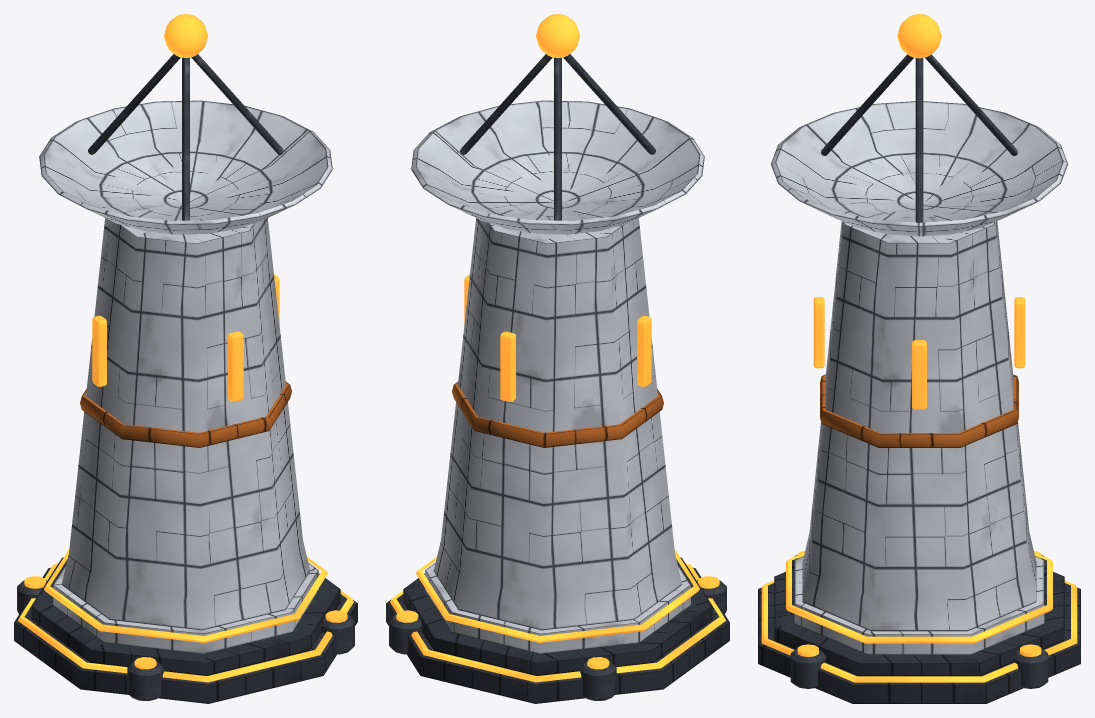
File: sf_starfall.glb
The picture shows the model from 3 angles, left to right: view 1: azimuth 30°, elevation 25°; view 2: azimuth 150°, elevation 25°; view 3: azimuth 270°, elevation 25°; orthographic projection.
Visible parts, largest first — view 1: Base, Turret; view 2: Base, Turret; view 3: Base, Turret.
Boxes of the visible parts, box(x1,y1,x2,y2) form: Base: box(14, 218, 357, 703); Turret: box(39, 14, 332, 234); Base: box(386, 218, 729, 703); Turret: box(411, 14, 704, 234); Base: box(758, 221, 1080, 703); Turret: box(771, 14, 1067, 236).
Size of the model in its own units: 0.8684 by 1.84 by 0.8684.
Materials: 5 (5 with a texture image).
